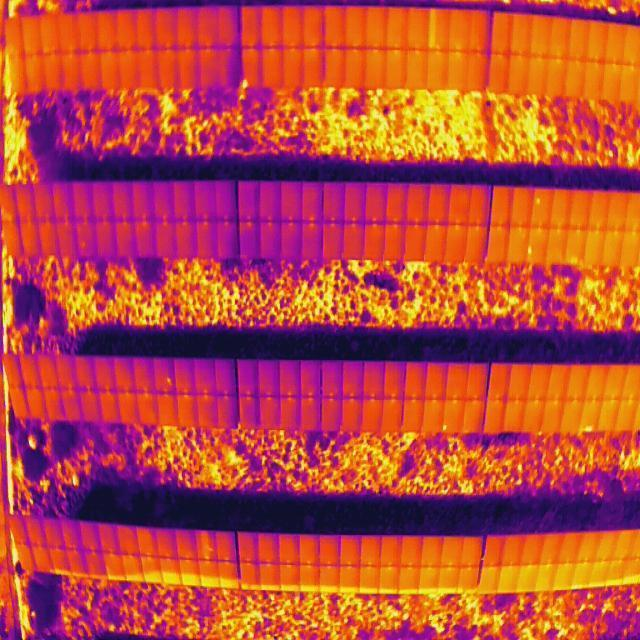diode: (428, 9, 438, 50)
hotspot: (578, 420, 596, 432), (527, 245, 534, 258), (535, 194, 541, 207)
